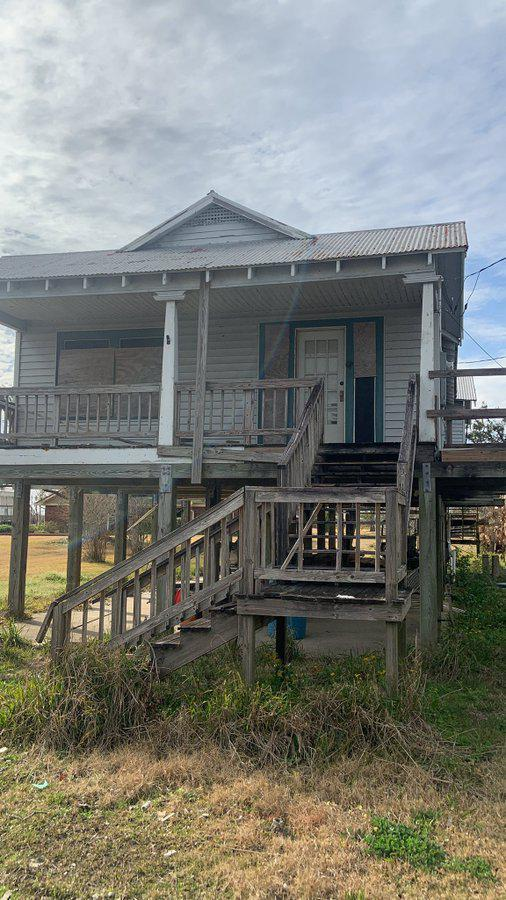major: (5, 158, 504, 728)
